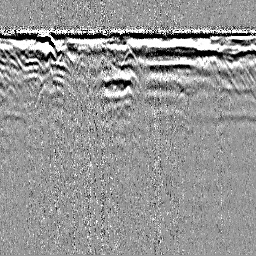cavity: (122, 49, 138, 67)
